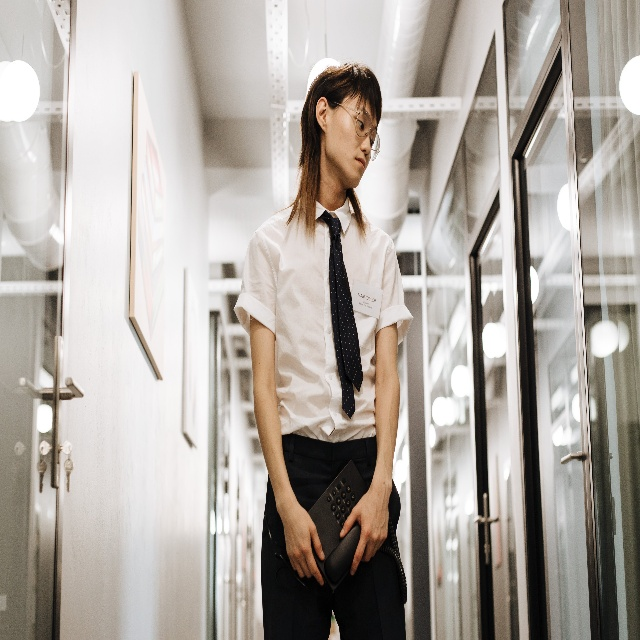Gafas: (333, 99, 380, 161)
Sin_guantes: (338, 479, 391, 576), (282, 506, 325, 586)
